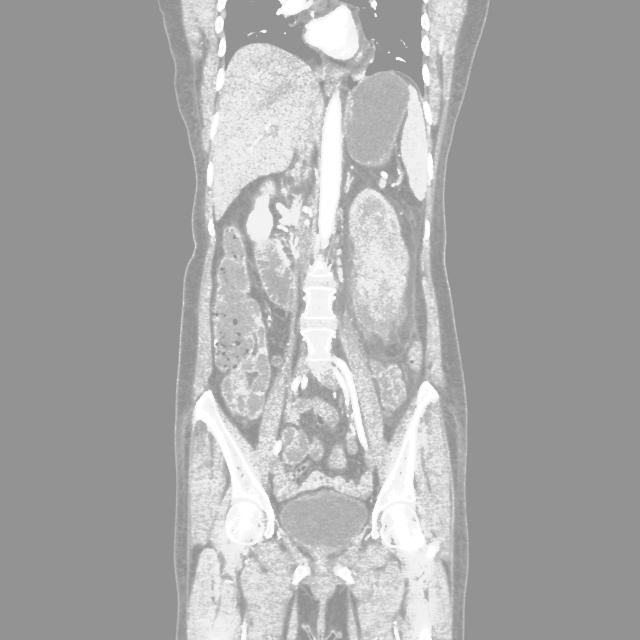TUMOR: (138, 195, 484, 447)
